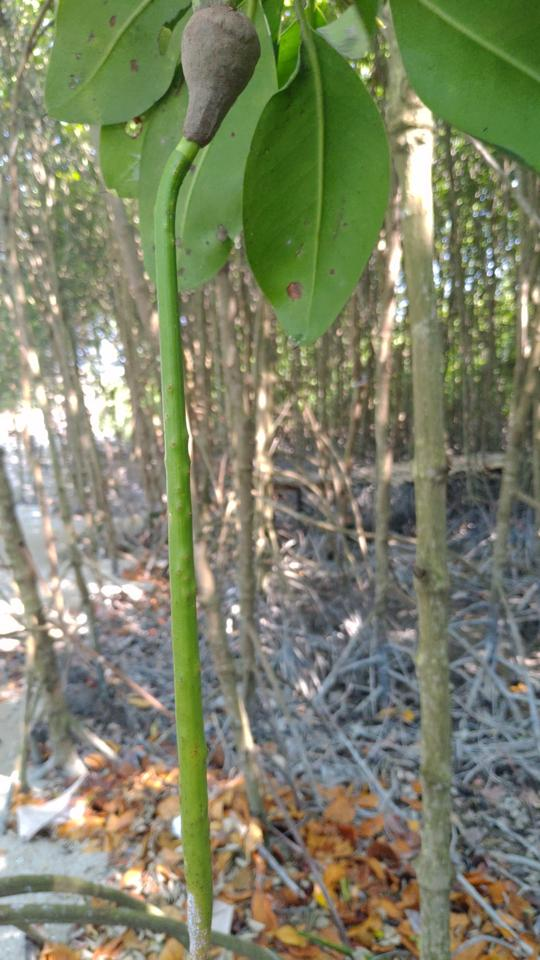setengah matang: (150, 3, 266, 956)
